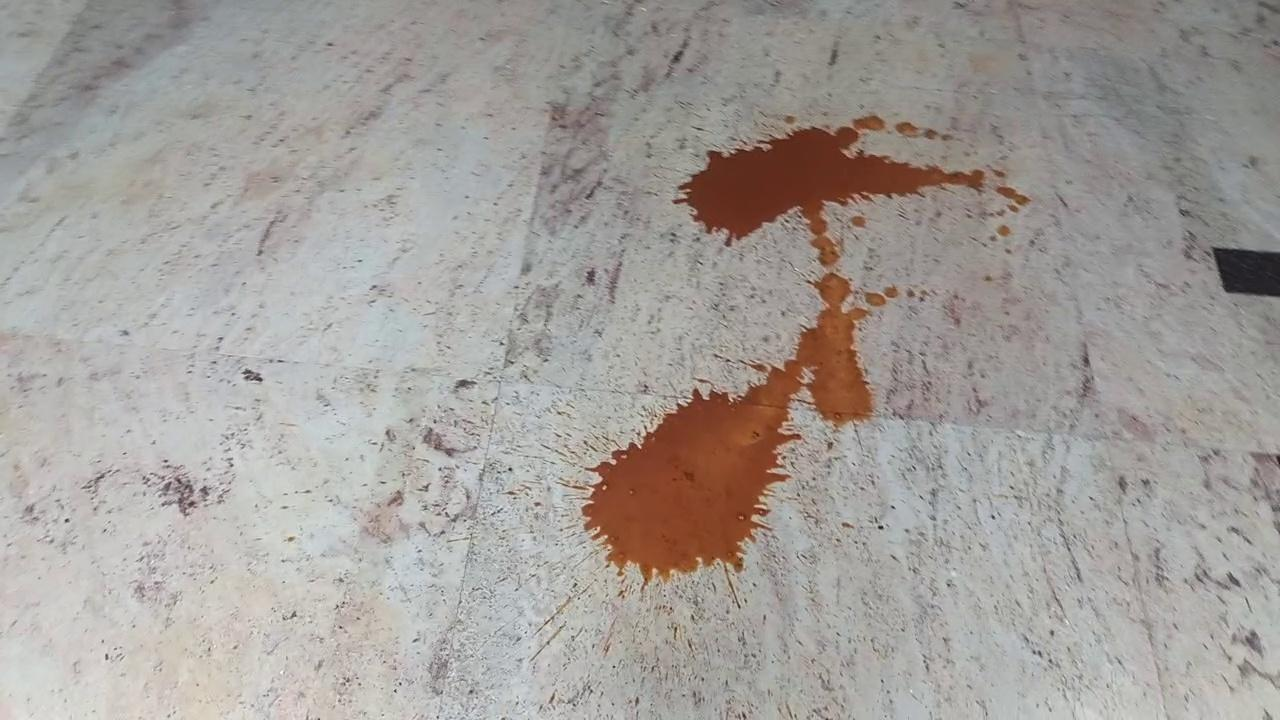dirty_floor: (581, 118, 1032, 583)
